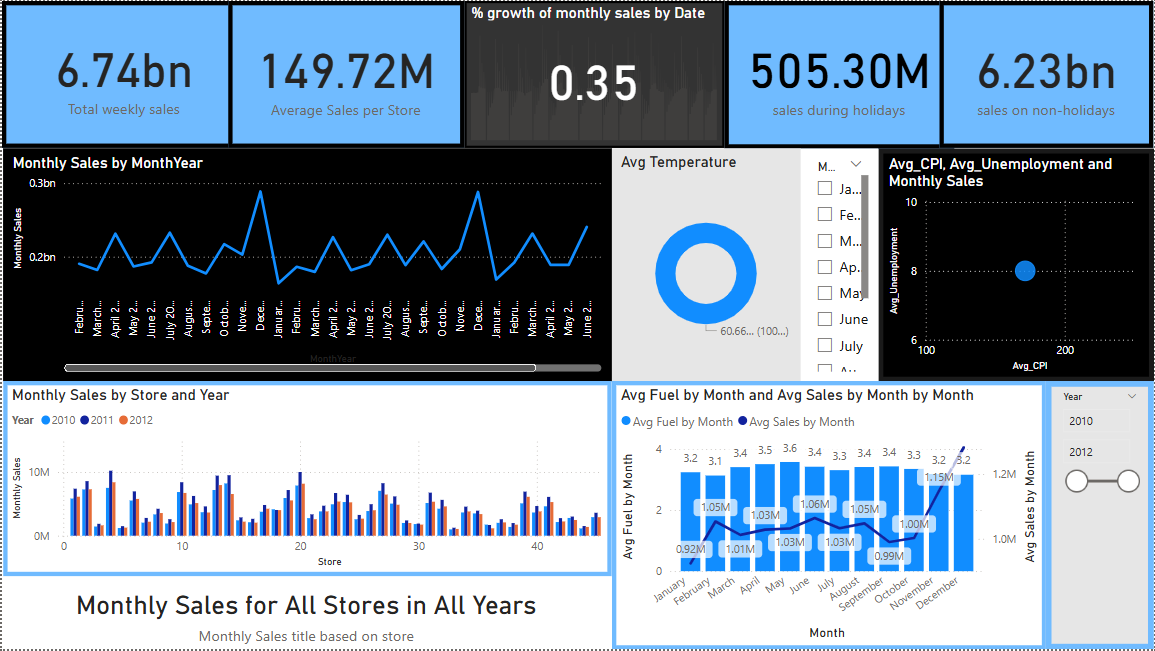

The page's visual inventory and layout, read from the dashboard file:
{"tool":"powerbi","page":{"name":"Page 1","canvas":[1280,720],"ordinal":0},"visuals":[{"type":"card","fields":{"Values":["fact_sales.Total Sales"]},"box":[0,0,271.6,163.5],"z":0},{"type":"card","fields":{"Values":["fact_sales.Average Sales per Store"]},"box":[251.4,0,262.2,163.5],"z":1000},{"type":"card","fields":{"Values":["fact_sales.sales during holidays"]},"box":[802.4,0,255.4,164],"z":2000},{"type":"card","fields":{"Values":["fact_sales.sales on non-holidays"]},"box":[1041.9,0,237.8,163.5],"z":3000},{"type":"kpi","fields":{"Indicator":["fact_sales.Monthly Sales Growth %"],"TrendLine":["Dim_Date.Date"]},"box":[513.5,0,289.2,163.5],"z":4000},{"type":"lineChart","fields":{"Category":["Dim_Date.MonthYear"],"Y":["fact_sales.Monthly Sales"]},"box":[1.3,164,676.1,259.4],"z":5000},{"type":"scatterChart","fields":{"X":["fact_sales.Avg CPI Dynamic"],"Y":["fact_sales.Avg Unemployment Dynamic"],"Size":["fact_sales.Monthly Sales"]},"box":[973,163.5,306.8,259.5],"z":6000},{"type":"donutChart","fields":{"Y":["fact_sales.Avg Temperature"]},"box":[677.4,164,209.7,259.4],"z":7000},{"type":"slicer","fields":{"Values":["Dim_Date.Month"]},"box":[887.1,164,86,259.4],"z":8000},{"type":"lineClusteredColumnComboChart","fields":{"Category":["Dim_Date.Month"],"Y":["fact_sales.Avg Fuel by Month"],"Y2":["fact_sales.Avg Sales by Month"]},"box":[677.4,422,482.5,298.4],"z":9000},{"type":"slicer","fields":{"Values":["Dim_Date.Year"]},"box":[1159.8,422.4,119.8,298],"z":10000},{"type":"clusteredColumnChart","fields":{"Category":["Dim_store.Store"],"Y":["fact_sales.Monthly Sales"],"Series":["Dim_Date.Year"]},"box":[1.1,422.7,676.4,217.1],"z":11000},{"type":"card","fields":{"Values":["Dim_Date.Dynamic Sales Title"]},"box":[0,639.8,676.6,80.1],"z":12000}]}

Visuals, with their boxes in screenshot pixels (x1, y1, x2, y2), scaled from the page's 1280x720 canvas onto the 1155x651 screenshot:
card - fact_sales.Total Sales: {"left": 0, "top": 0, "right": 245, "bottom": 148}
card - fact_sales.Average Sales per Store: {"left": 227, "top": 0, "right": 463, "bottom": 148}
card - fact_sales.sales during holidays: {"left": 724, "top": 0, "right": 954, "bottom": 148}
card - fact_sales.sales on non-holidays: {"left": 940, "top": 0, "right": 1154, "bottom": 148}
kpi - fact_sales.Monthly Sales Growth % x Dim_Date.Date: {"left": 463, "top": 0, "right": 724, "bottom": 148}
lineChart - Dim_Date.MonthYear x fact_sales.Monthly Sales: {"left": 1, "top": 148, "right": 611, "bottom": 383}
scatterChart - fact_sales.Avg CPI Dynamic x fact_sales.Avg Unemployment Dynamic: {"left": 878, "top": 148, "right": 1154, "bottom": 382}
donutChart - fact_sales.Avg Temperature: {"left": 611, "top": 148, "right": 800, "bottom": 383}
slicer - Dim_Date.Month: {"left": 800, "top": 148, "right": 878, "bottom": 383}
lineClusteredColumnComboChart - Dim_Date.Month x fact_sales.Avg Fuel by Month: {"left": 611, "top": 382, "right": 1047, "bottom": 650}
slicer - Dim_Date.Year: {"left": 1047, "top": 382, "right": 1154, "bottom": 650}
clusteredColumnChart - Dim_store.Store x fact_sales.Monthly Sales: {"left": 1, "top": 382, "right": 611, "bottom": 578}
card - Dim_Date.Dynamic Sales Title: {"left": 0, "top": 578, "right": 611, "bottom": 650}
